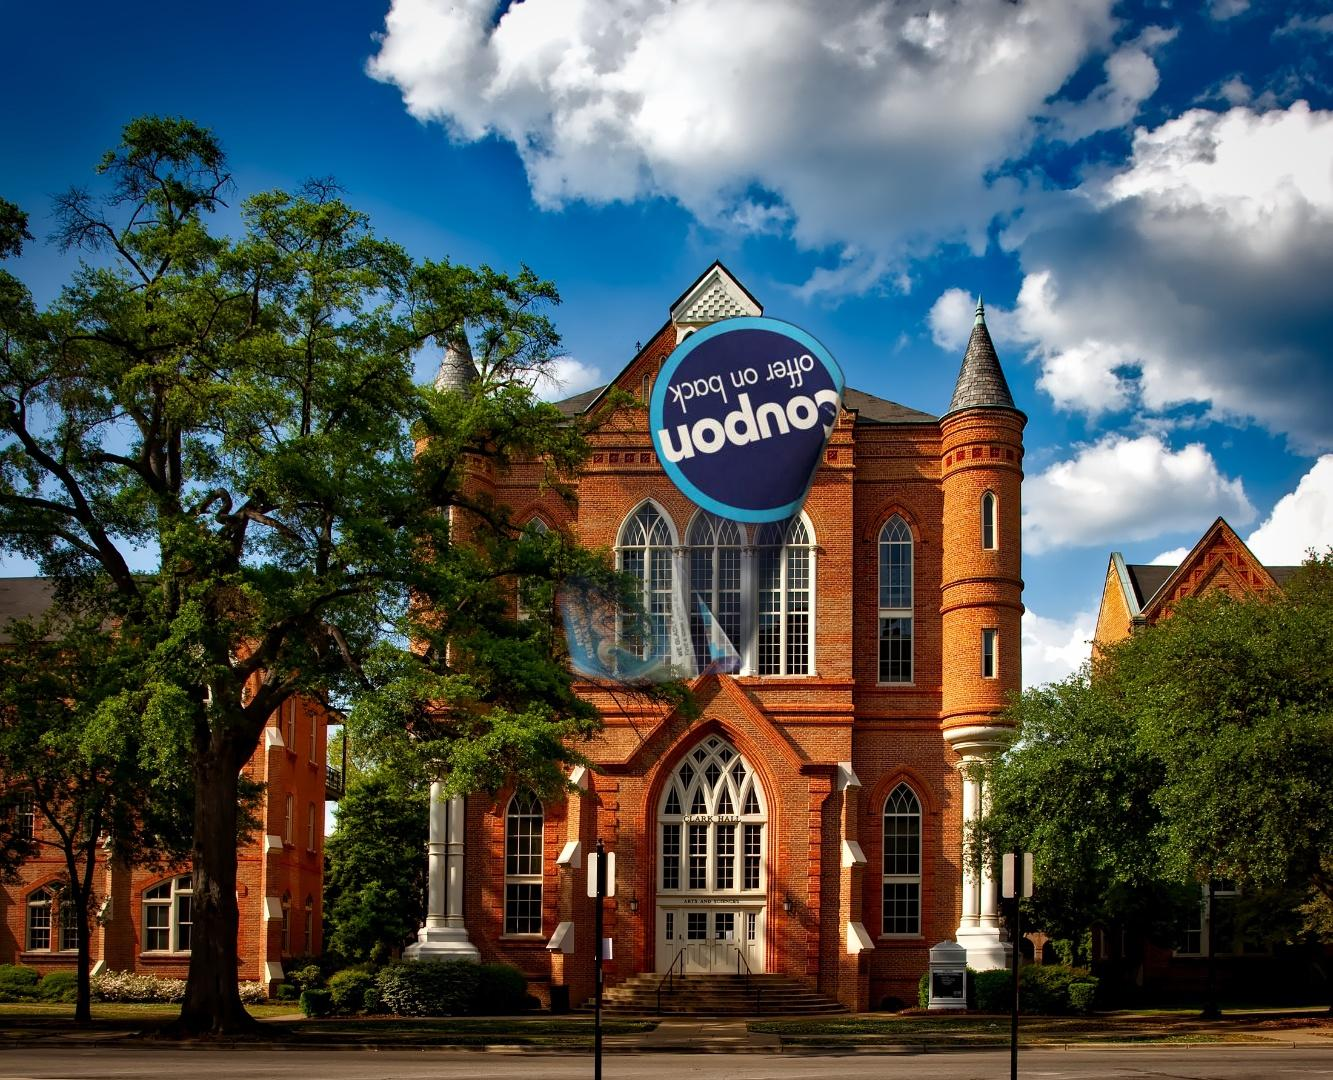paper: (429, 305, 850, 689)
